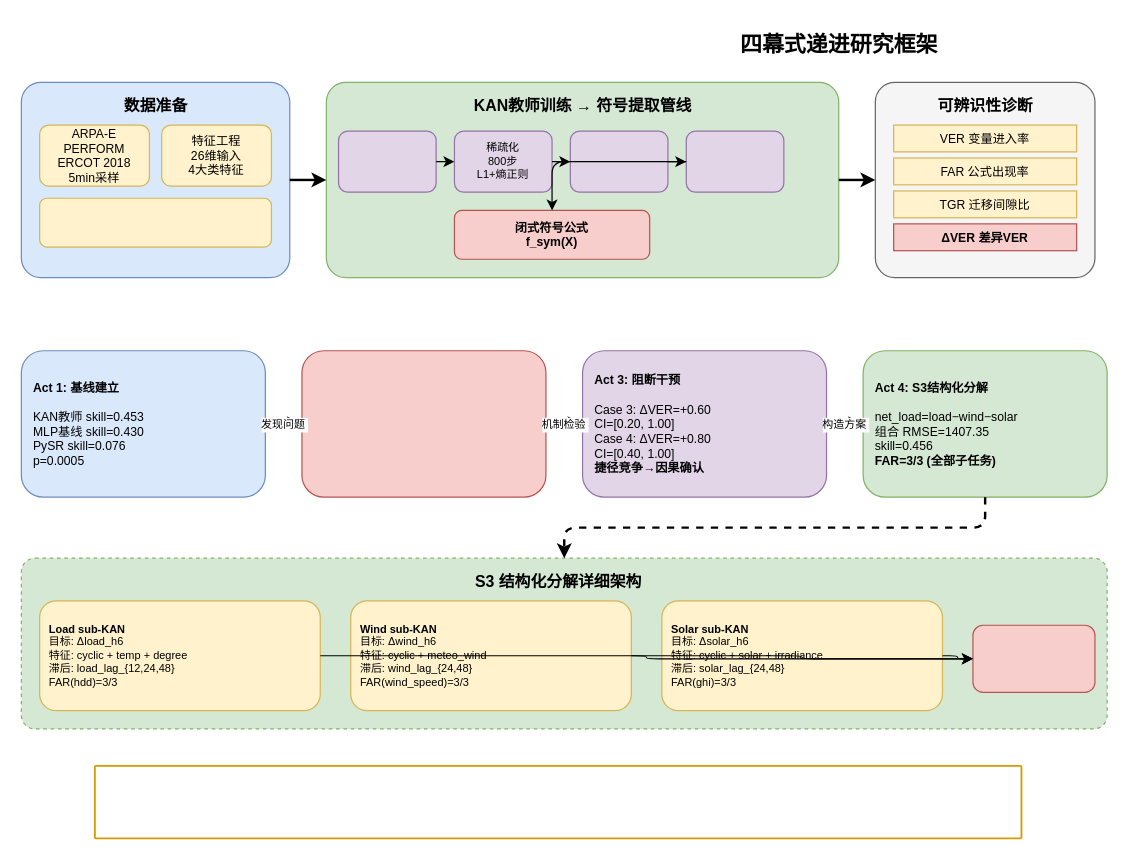
Image size: 1129x860. Some labels were removed from this diagram. The shapes that lost their labels are listed below. From the top down, each one's box as (x1, y1, x2, y2) in pixels, then its label:
(337, 130, 436, 192): 预热 200步 η=0.01
(569, 130, 668, 192): 结构化 剪枝 阈值搜索
(685, 130, 784, 192): 符号拟合 + 精细化 SymPy公式
(38, 197, 271, 247): 70/15/15划分 Z-score标准化 48步防泄漏间隔
(301, 350, 546, 497): Act 2: 公式坍缩 9种符号配置 VER(physical)=0/9 公式: 0.0007×load−3.0 物理含义完全丧失
(972, 624, 1095, 692): 固定加法组合 Δnet_load = Δload − Δwind − Δsolar
(93, 764, 1022, 839): 核心结论 ：自回归捷径竞争（而非变量无关性）是KAN符号提取中物理气象变量被剪除的主要机制。 S3结构化分解在保持精度的同时恢复了物理变量的公式可辨识性。
